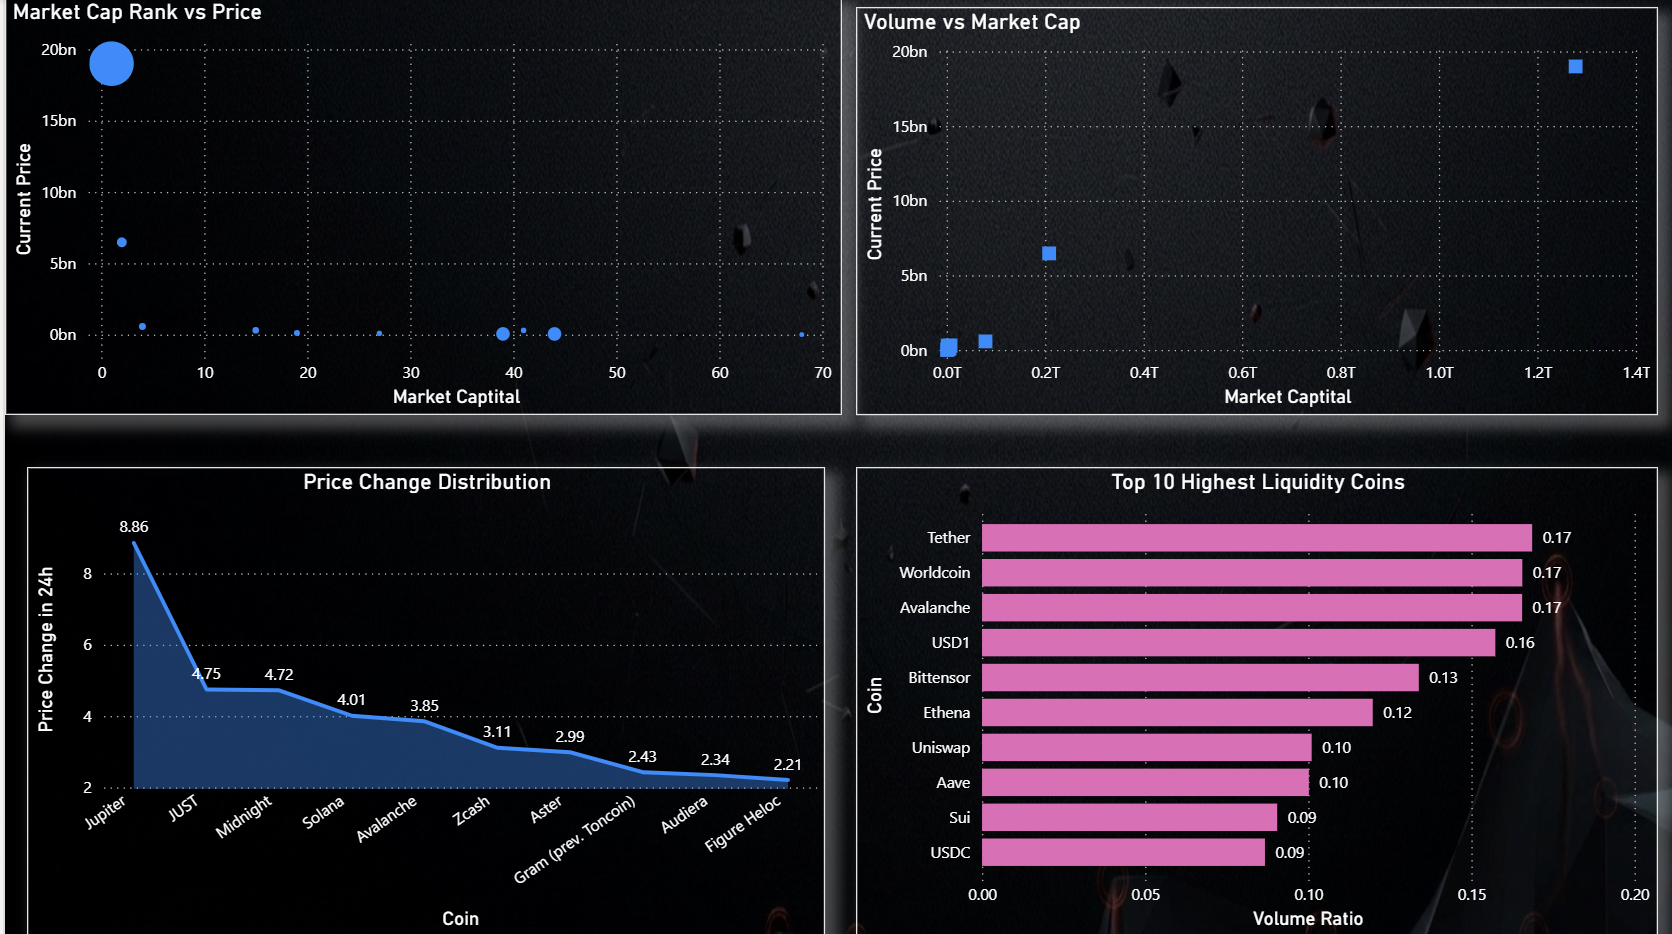

This screenshot's page, from the dashboard's own definition file:
{"tool":"powerbi","page":{"name":"Page 3","canvas":[1280,720],"ordinal":2},"visuals":[{"type":"scatterChart","title":"Market Cap Rank vs Price","fields":{"X":["Sum(crypto_market.market_cap_rank)"],"Category":["crypto_market.name"],"Size":["Sum(crypto_market.current_price)"],"Y":["crypto_market.Total Volume"]},"box":[0,0,640,320],"z":0},{"type":"scatterChart","title":"Volume vs Market Cap","fields":{"X":["Sum(crypto_market.market_cap)"],"Y":["crypto_market.Total Volume"],"Category":["crypto_market.name"]},"box":[650.7,7.7,614,312.3],"z":1},{"type":"stackedAreaChart","title":"Price Change Distribution","fields":{"Y":["Sum(crypto_market.price_change_percentage_24h)"],"Category":["crypto_market.name"]},"box":[16.8,359.8,610.9,359.8],"z":2},{"type":"clusteredBarChart","title":"Top 10 Highest Liquidity Coins","fields":{"Y":["crypto_market.Volume Ratio"],"Category":["crypto_market.name"]},"box":[651,360,614,360],"z":3}]}

Visuals, with their boxes in screenshot pixels (x1, y1, x2, y2), scaled from the page's 1280x720 canvas onto the 1672x934 screenshot:
"Market Cap Rank vs Price" scatterChart: <bbox>0, 0, 836, 415</bbox>
"Volume vs Market Cap" scatterChart: <bbox>850, 10, 1652, 415</bbox>
"Price Change Distribution" stackedAreaChart: <bbox>22, 467, 820, 933</bbox>
"Top 10 Highest Liquidity Coins" clusteredBarChart: <bbox>850, 467, 1652, 933</bbox>
